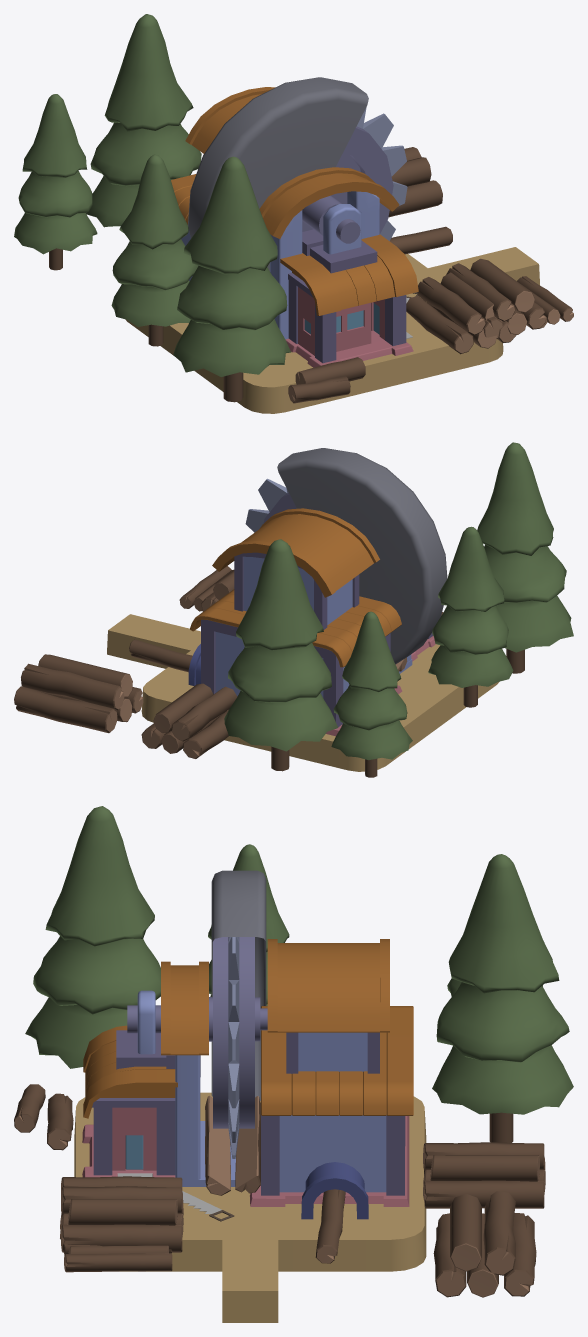
File: lumberjack_resources.fbx
The picture shows the model from 3 angles, top to bottom: view 1: azimuth 30°, elevation 25°; view 2: azimuth 150°, elevation 25°; view 3: azimuth 270°, elevation 25°; orthographic projection. The views are drawn at different scales.
Visible parts, largest first — view 1: pCylinder12; view 2: pCylinder12; view 3: pCylinder12.
Boxes of the visible parts, box(x1,y1,x2,y2) form: pCylinder12: box(14, 14, 573, 413); pCylinder12: box(14, 442, 573, 777); pCylinder12: box(14, 806, 573, 1322).
Size of the model in its own units: 4.16 by 2.48 by 4.08.
